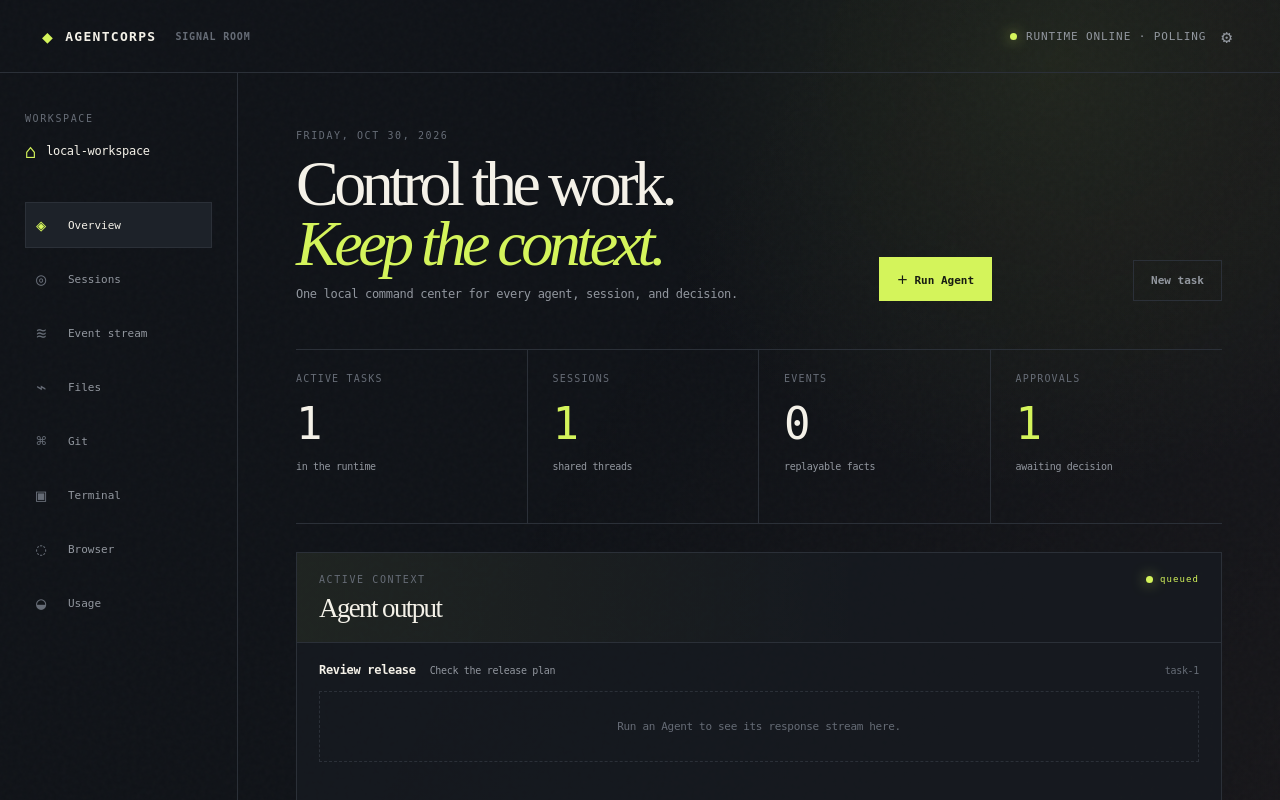
it: React management console › Close on task dialog never submits a task
Click the button "New task": (1178, 281) top-left (1133, 260), bottom-right (1222, 301)
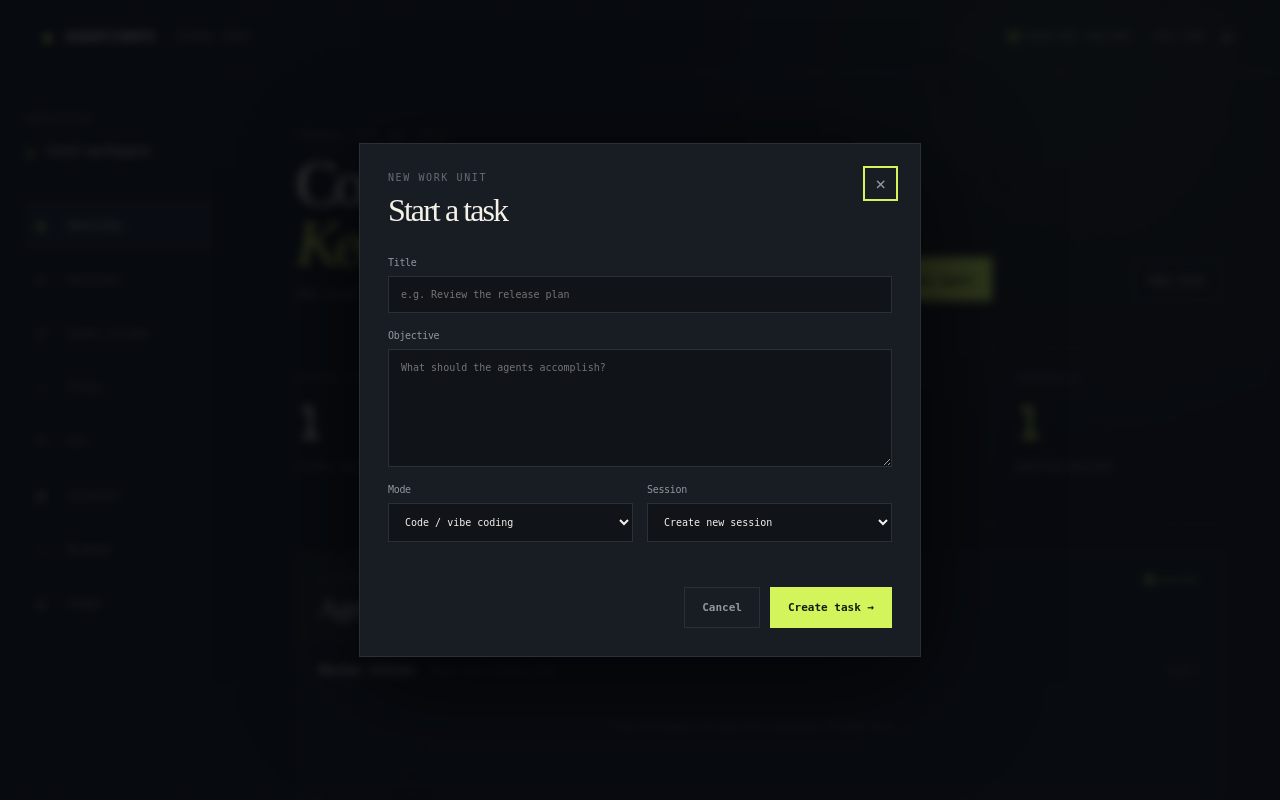
In the field labelled "Title": (640, 294) top-left (388, 276), bottom-right (892, 313), type "New release"
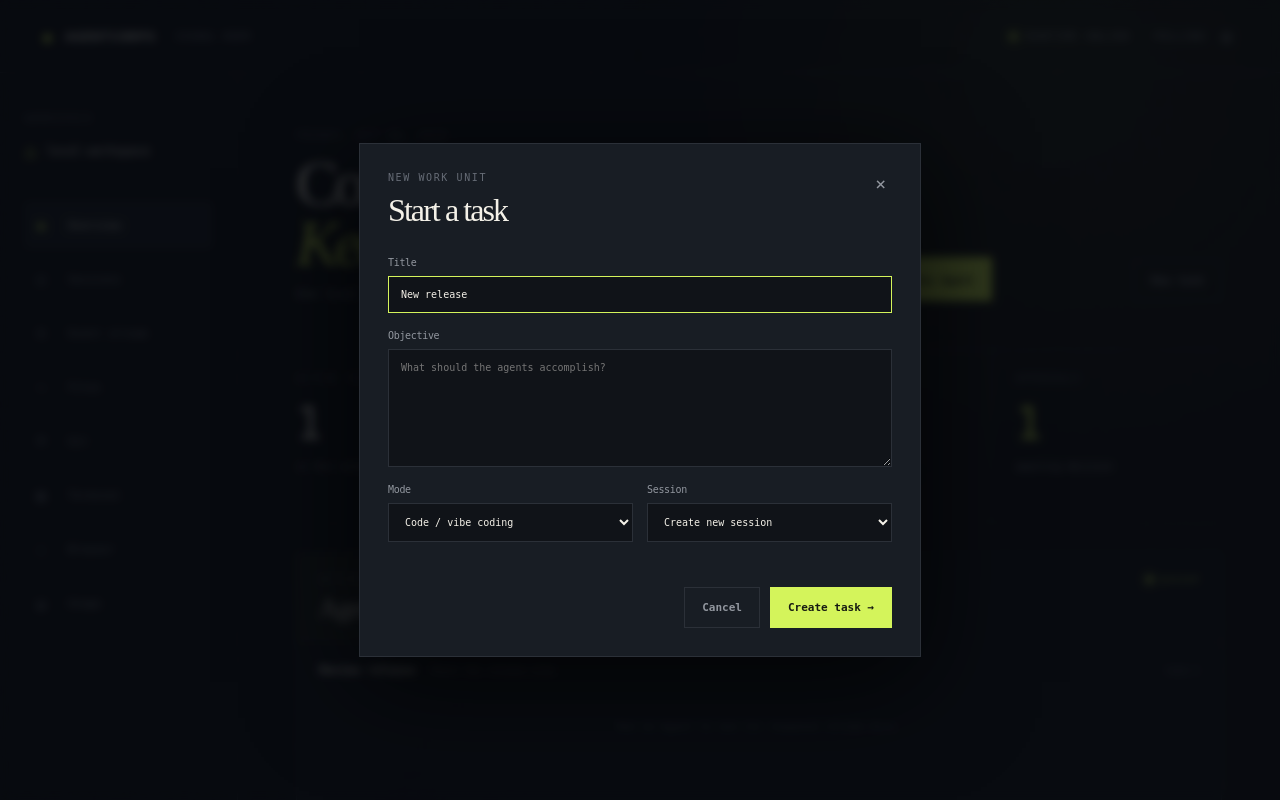
In the text box labelled "Objective": (640, 408) top-left (388, 349), bottom-right (892, 467), type "Review it"
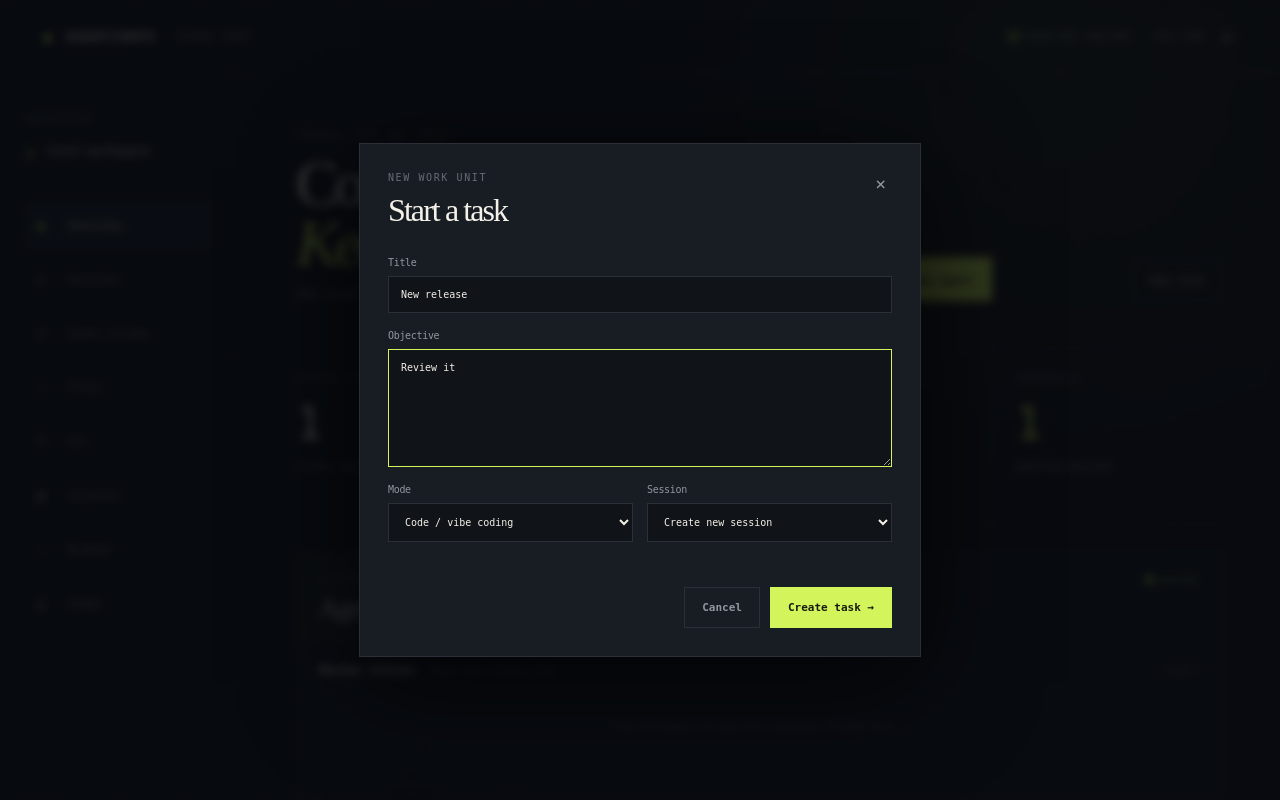
Click the button named "Close": (881, 184) top-left (869, 172), bottom-right (892, 195)
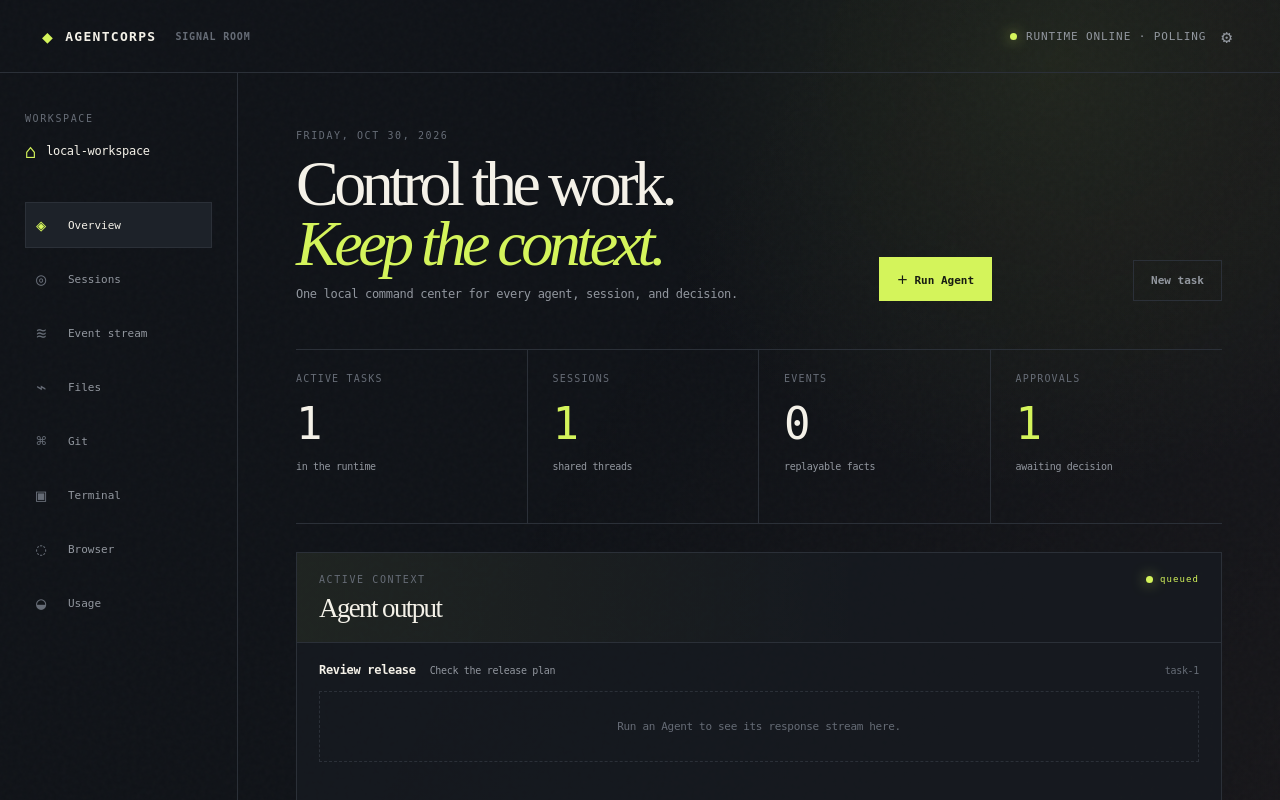
expect the dialog is gone: met
